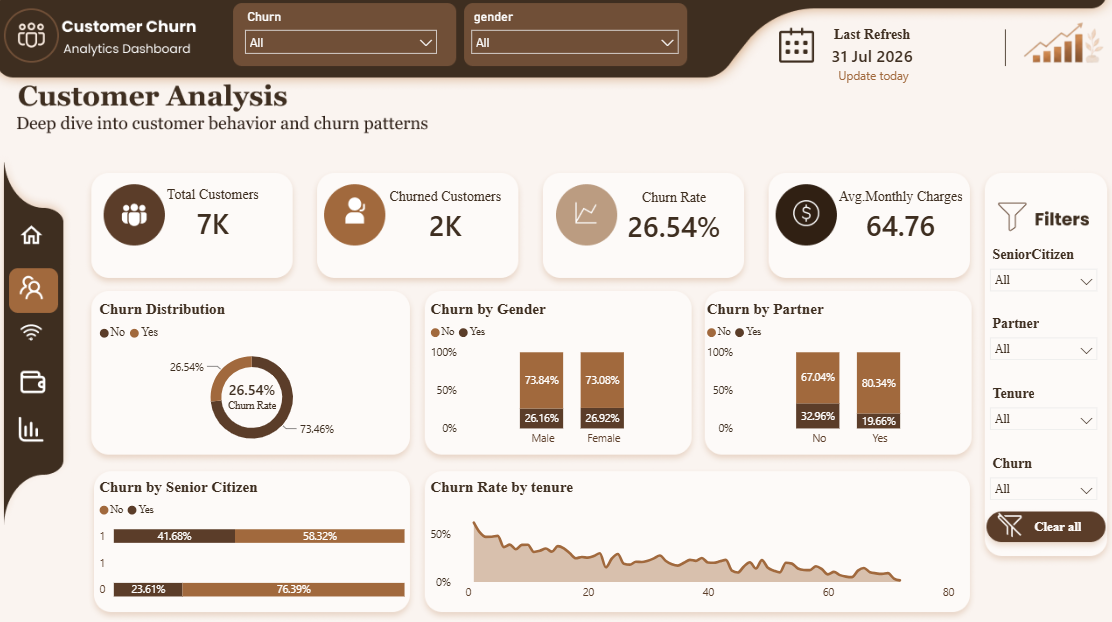

The dashboard page shown, as its layout file describes it:
{"tool":"powerbi","page":{"name":"Page 2","canvas":[1280,720],"ordinal":1},"visuals":[{"type":"cardVisual","fields":{"Data":["dax.Total Customers"]},"box":[144.3,190.4,207.8,119.7],"z":0},{"type":"cardVisual","fields":{"Data":["dax.Churned Customers"]},"box":[409.7,191.9,207.8,119.7],"z":1000},{"type":"cardVisual","fields":{"Data":["dax.Churn Rate"]},"box":[670.9,193.3,207.8,119.7],"z":2000},{"type":"cardVisual","fields":{"Data":["dax.Average Monthly Charges"]},"box":[923.4,191.9,222.2,119.7],"z":3000},{"type":"donutChart","title":"Churn Distribution","fields":{"Category":["fact customer.Churn"],"Y":["CountNonNull(fact customer.customerID)"]},"box":[112.5,349.1,359.2,170.2],"z":4000},{"type":"hundredPercentStackedColumnChart","title":"Churn by Gender","fields":{"Category":["fact customer.gender"],"Series":["fact customer.Churn"],"Y":["dax.Total Customers"]},"box":[492,349.1,297.2,170.2],"z":5000},{"type":"hundredPercentStackedBarChart","title":"Churn by Senior Citizen","fields":{"Category":["fact customer.SeniorCitizen"],"Series":["fact customer.Churn"],"Y":["dax.Total Customers"]},"box":[112.5,551.1,359.2,142.8],"z":6000},{"type":"areaChart","fields":{"Category":["fact customer.tenure"],"Y":["dax.Churn Rate"]},"box":[492,551.1,611.7,142.8],"z":7000},{"type":"hundredPercentStackedColumnChart","title":"Churn by Partner","fields":{"Category":["fact customer.Partner"],"Series":["fact customer.Churn"],"Y":["dax.Total Customers"]},"box":[806.5,349.1,297.2,170.2],"z":8000},{"type":"cardVisual","fields":{"Data":["dax.Last Refresh"]},"box":[923.4,20.2,157.3,77.9],"z":9000},{"type":"textbox","box":[945,76.5,114,43.3],"z":10000},{"type":"slicer","fields":{"Values":["fact customer.Churn"]},"box":[274.1,10.1,239.5,66.4],"z":11000},{"type":"slicer","fields":{"Values":["fact customer.gender"]},"box":[532.4,10.1,256.8,66.4],"z":12000},{"type":"slicer","fields":{"Values":["fact customer.SeniorCitizen"]},"box":[1125.4,281.3,142.8,79.4],"z":13000},{"type":"slicer","fields":{"Values":["fact customer.Partner"]},"box":[1125.4,360.7,142.8,79.4],"z":14000},{"type":"slicer","fields":{"Values":["fact customer.tenure"]},"box":[1125.4,440,142.8,79.4],"z":15000},{"type":"slicer","fields":{"Values":["fact customer.Churn"]},"box":[1125.4,519.4,142.8,79.4],"z":16000},{"type":"actionButton","box":[13,251,59.2,52],"z":17000},{"type":"actionButton","box":[13,308.8,59.2,52],"z":18000},{"type":"actionButton","box":[13,362.1,59.2,52],"z":19000},{"type":"actionButton","box":[13,414.1,59.2,52],"z":20000},{"type":"actionButton","box":[13,467.5,59.2,52],"z":21000},{"type":"actionButton","box":[1158.5,585.8,109.6,41.8],"z":22000},{"type":"cardVisual","fields":{"Data":["dax.Churn Rate"]},"box":[219,417,148.6,79.4],"z":23000}]}

Visuals, with their boxes on the page's 1280x720 design canvas (x1, y1, x2, y2). These are canvas units, not pixel positions in the 1112x622 screenshot, which may show the page scaled, cropped or inside an application window:
cardVisual - dax.Total Customers: locate(144, 190, 352, 310)
cardVisual - dax.Churned Customers: locate(410, 192, 618, 312)
cardVisual - dax.Churn Rate: locate(671, 193, 879, 313)
cardVisual - dax.Average Monthly Charges: locate(923, 192, 1146, 312)
"Churn Distribution" donutChart: locate(112, 349, 472, 519)
"Churn by Gender" hundredPercentStackedColumnChart: locate(492, 349, 789, 519)
"Churn by Senior Citizen" hundredPercentStackedBarChart: locate(112, 551, 472, 694)
areaChart - fact customer.tenure x dax.Churn Rate: locate(492, 551, 1104, 694)
"Churn by Partner" hundredPercentStackedColumnChart: locate(806, 349, 1104, 519)
cardVisual - dax.Last Refresh: locate(923, 20, 1081, 98)
textbox: locate(945, 76, 1059, 120)
slicer - fact customer.Churn: locate(274, 10, 514, 76)
slicer - fact customer.gender: locate(532, 10, 789, 76)
slicer - fact customer.SeniorCitizen: locate(1125, 281, 1268, 361)
slicer - fact customer.Partner: locate(1125, 361, 1268, 440)
slicer - fact customer.tenure: locate(1125, 440, 1268, 519)
slicer - fact customer.Churn: locate(1125, 519, 1268, 599)
actionButton: locate(13, 251, 72, 303)
actionButton: locate(13, 309, 72, 361)
actionButton: locate(13, 362, 72, 414)
actionButton: locate(13, 414, 72, 466)
actionButton: locate(13, 468, 72, 520)
actionButton: locate(1158, 586, 1268, 628)
cardVisual - dax.Churn Rate: locate(219, 417, 368, 496)
